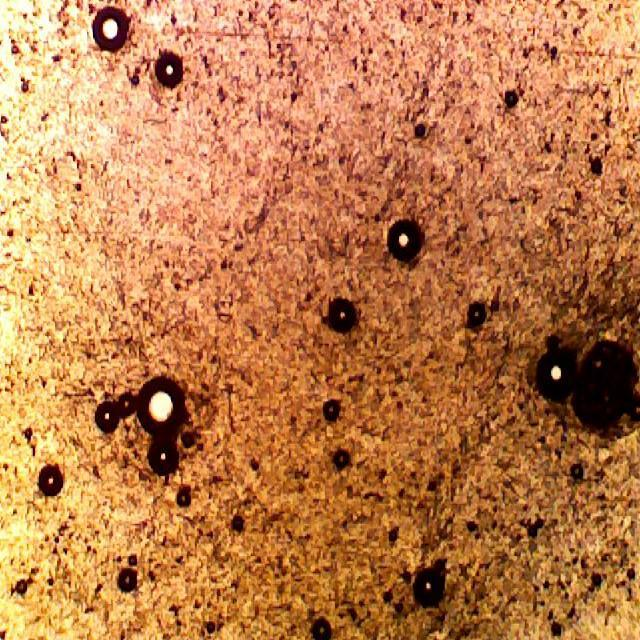microbeads: (382, 216, 426, 260), (89, 6, 128, 54), (142, 434, 182, 478), (409, 568, 447, 612), (324, 292, 360, 336), (153, 49, 185, 89), (34, 463, 64, 501), (92, 400, 122, 436), (114, 566, 138, 598)
